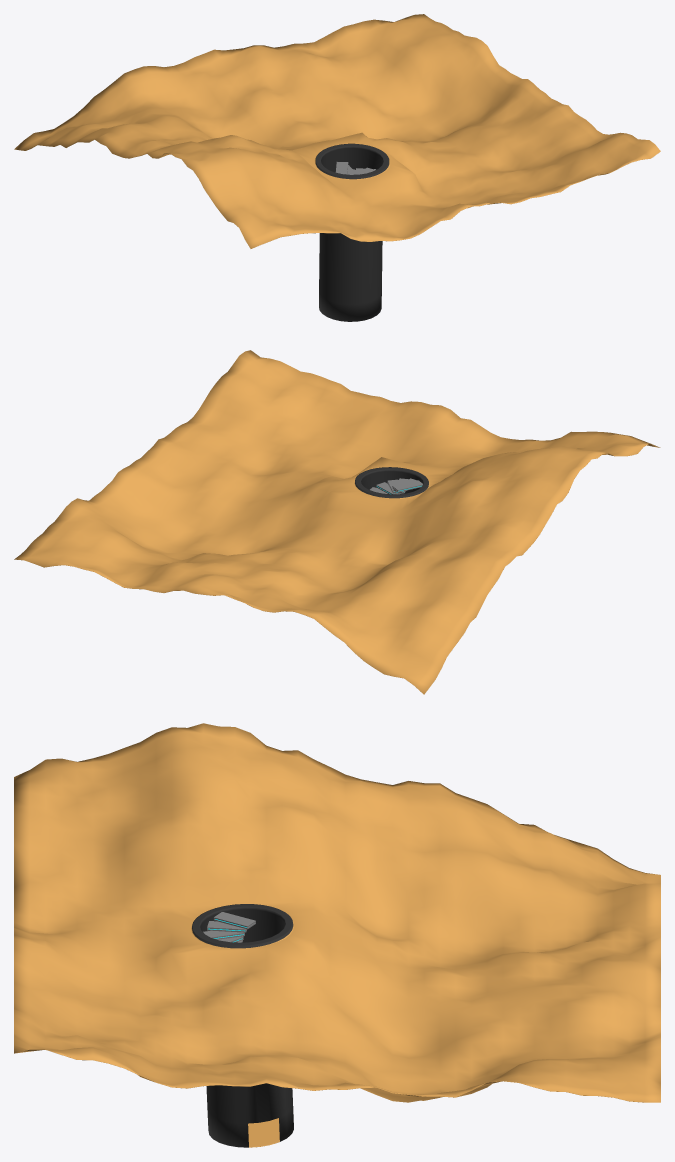
File: Nivel 2 prueba.fbx
3 views of the same model, one above another, from view 1: azimuth 30°, elevation 25°; view 2: azimuth 150°, elevation 25°; view 3: azimuth 270°, elevation 25° (orthographic). The views are drawn at different scales.
Visible parts, largest first — view 1: Terreno Desierto; view 2: Terreno Desierto, Escaleras de caracol; view 3: Terreno Desierto, Escaleras de caracol.
Part boxes in pixels (box(x1,y1,x2,y2)): Terreno Desierto: box(14, 14, 660, 321); Terreno Desierto: box(14, 350, 660, 694); Escaleras de caracol: box(370, 478, 422, 494); Terreno Desierto: box(14, 723, 660, 1147); Escaleras de caracol: box(203, 912, 255, 942).
Bounding box in the file's own units: 4001 × 1937 × 4001.
